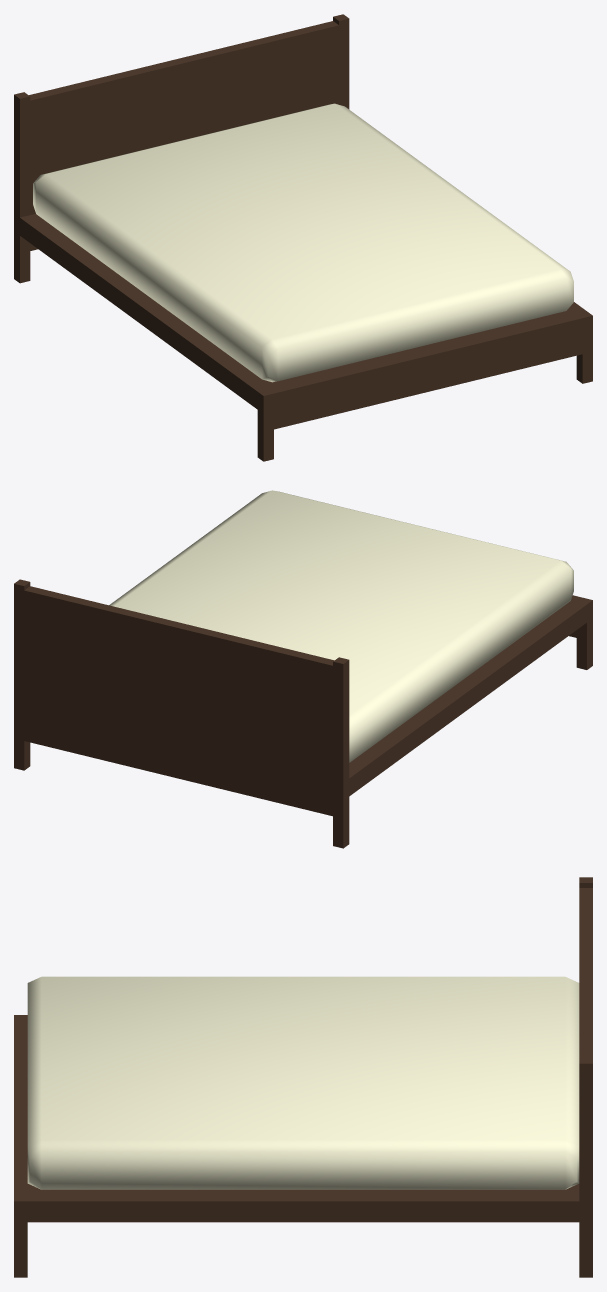
The model's file is Bed1.fbx.
The picture shows the model from 3 angles, top to bottom: view 1: azimuth 30°, elevation 25°; view 2: azimuth 150°, elevation 25°; view 3: azimuth 270°, elevation 25°; orthographic projection. The views are drawn at different scales.
Parts seen in each view (by area): view 1: Bed Mattress, Bed Frame; view 2: Bed Frame, Bed Mattress; view 3: Bed Mattress, Bed Frame.
Boxes of the visible parts, left/top/right/bottom form: Bed Mattress: left=33, top=103, right=573, bottom=382; Bed Frame: left=14, top=14, right=592, bottom=461; Bed Frame: left=14, top=579, right=592, bottom=848; Bed Mattress: left=109, top=490, right=573, bottom=762; Bed Mattress: left=27, top=976, right=579, bottom=1189; Bed Frame: left=14, top=877, right=592, bottom=1277.
Size of the model in its own units: 163 by 87 by 213.
